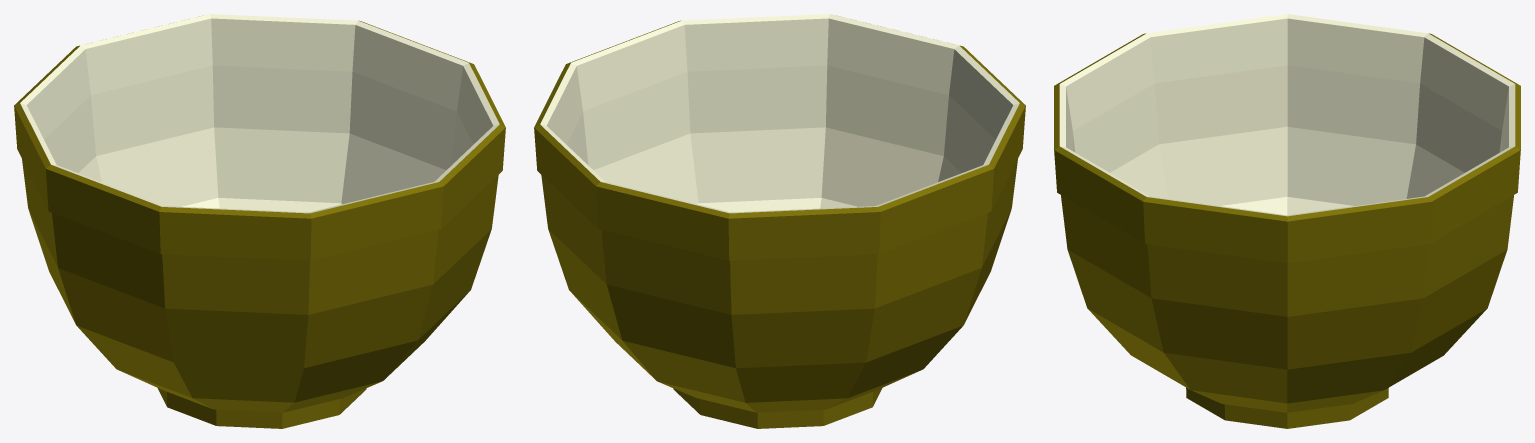
Rendered from Green Bowl.fbx.
The picture shows the model from 3 angles, left to right: view 1: azimuth 30°, elevation 25°; view 2: azimuth 150°, elevation 25°; view 3: azimuth 270°, elevation 25°; orthographic projection.
Parts seen in each view (by area): view 1: bowl; view 2: bowl; view 3: bowl.
Part boxes in pixels (left/top/right/bottom): bowl: left=14, top=14, right=505, bottom=428; bowl: left=534, top=14, right=1025, bottom=428; bowl: left=1054, top=14, right=1520, bottom=428.
Size of the model in its own units: 230 by 139 by 218.
